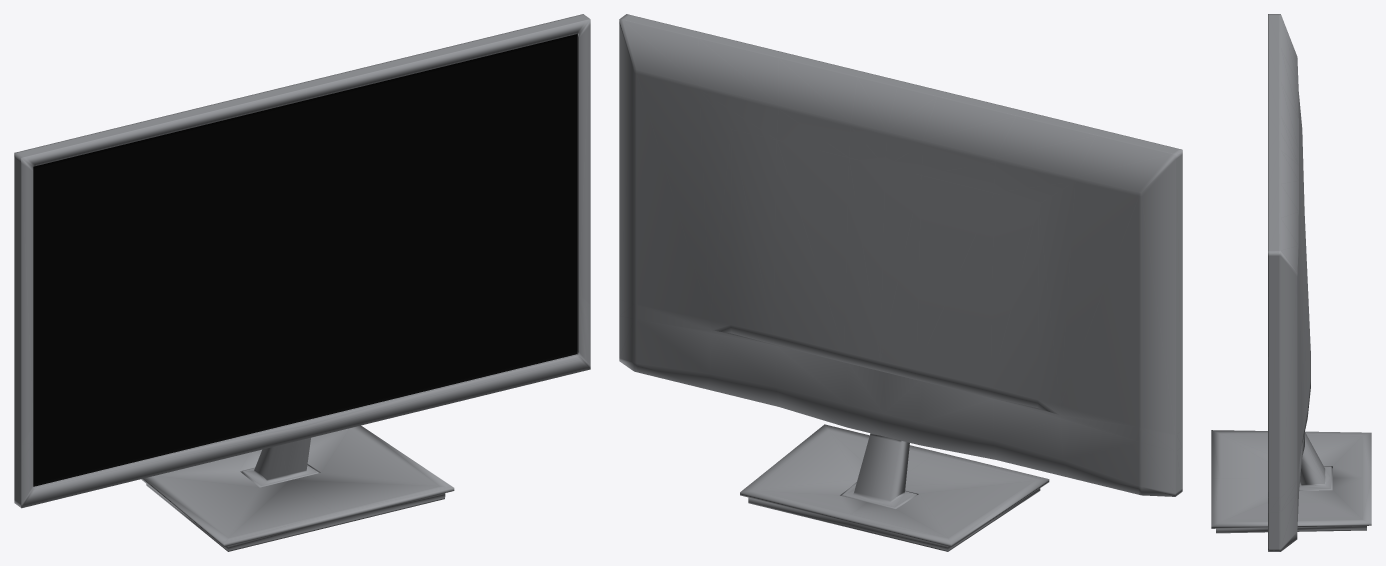
File: monitor.glb
3 renders of one model, left to right at view 1: azimuth 30°, elevation 25°; view 2: azimuth 150°, elevation 25°; view 3: azimuth 270°, elevation 25°, orthographic. The views are drawn at different scales.
Parts seen in each view (by area): view 1: Plane, Plane_1; view 2: Plane_1; view 3: Plane_1.
Part boxes in pixels (x1,y1,x2,y2): Plane: (33, 34, 577, 486); Plane_1: (14, 14, 590, 551); Plane_1: (619, 14, 1182, 551); Plane_1: (1211, 14, 1371, 551).
Bounding box in the file's own units: 3.4 × 2.37 × 0.9679.
2 materials, 1 textured.
